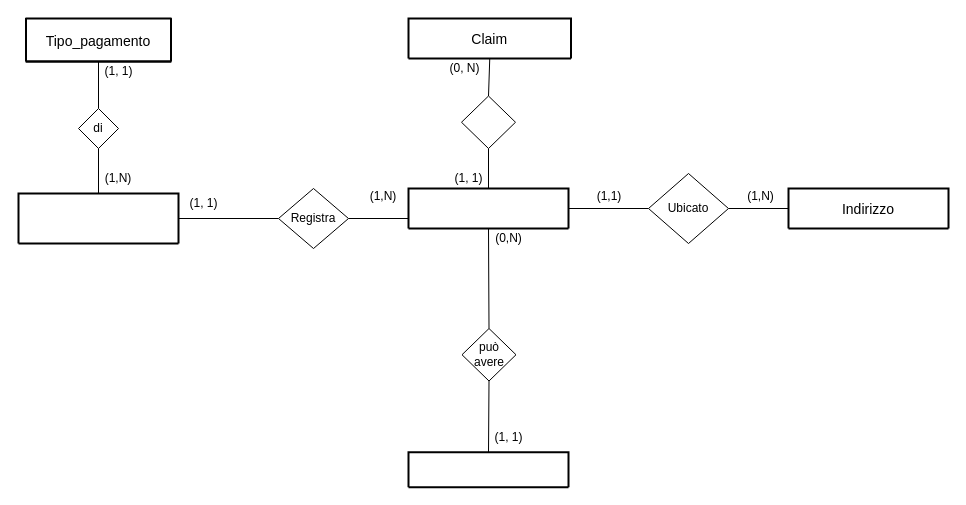
Some shapes in this 966 by 505 pixel diagram are drawn without their labels. Each missing label, with the box of its shape:
Forma_di_pagamento: (17, 192, 179, 244)
ha: (460, 95, 516, 148)
Raccolta: (407, 451, 569, 488)
Utente: (407, 187, 569, 229)
